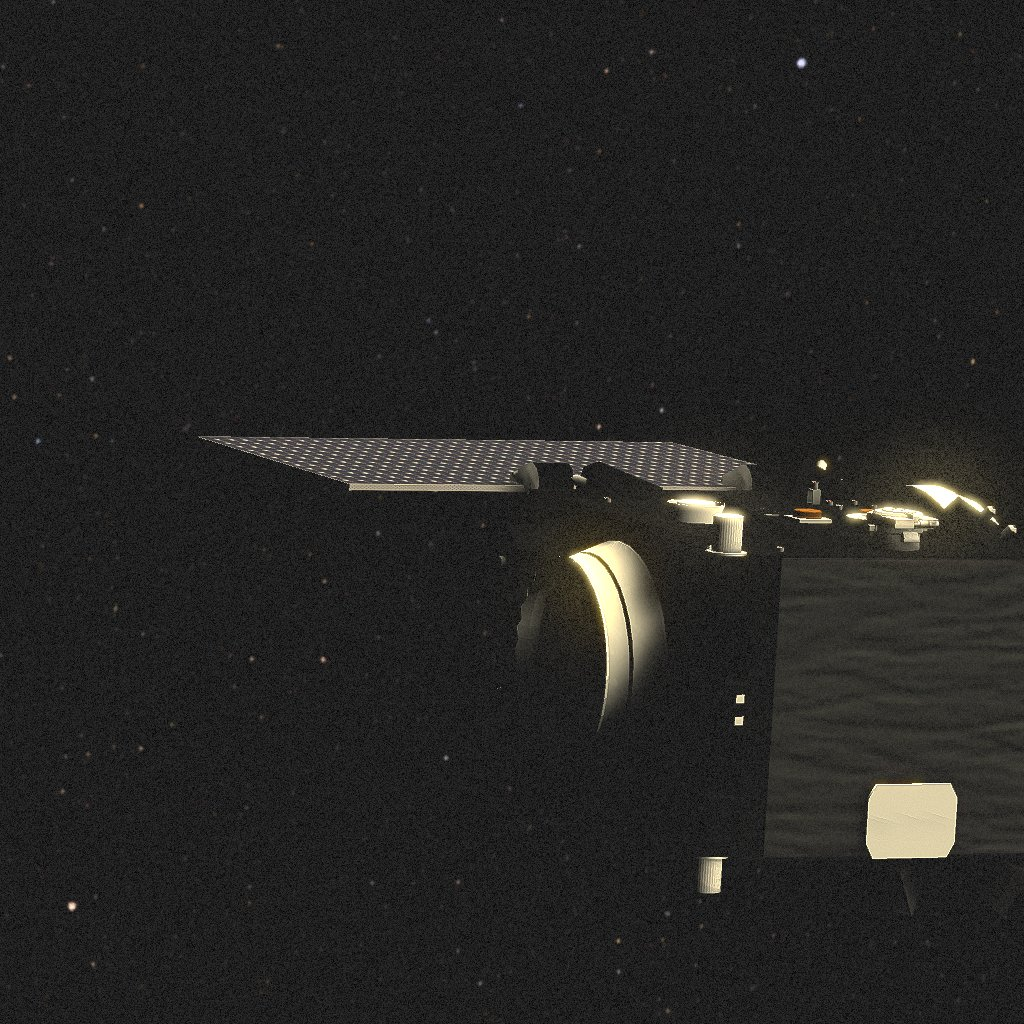proba_3_csc: (196, 437, 1024, 918)
